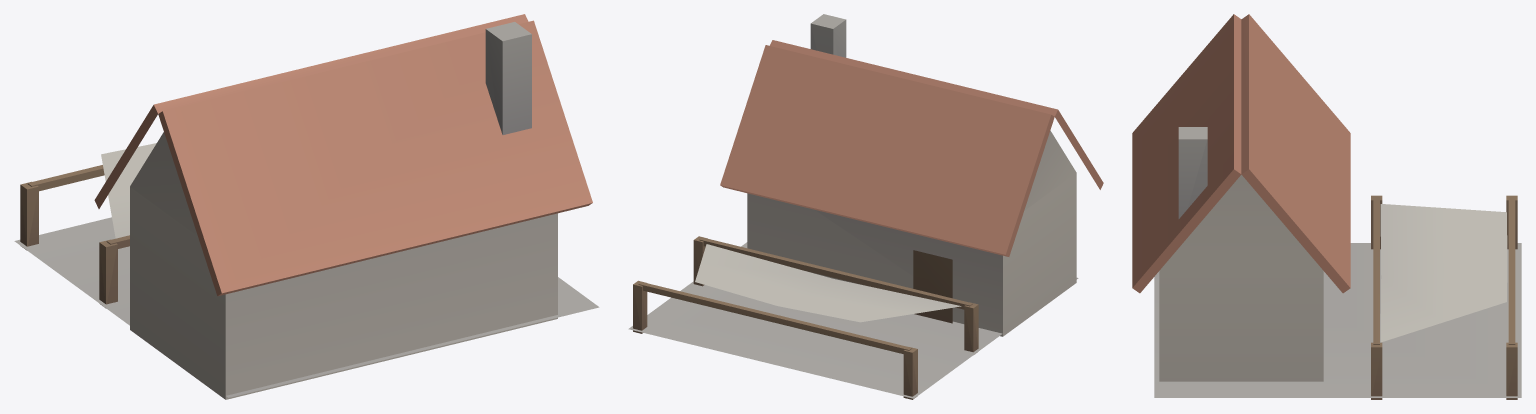
Rendered from sailmaker.lite.glb.
3 renders of one model, left to right at view 1: azimuth 30°, elevation 25°; view 2: azimuth 150°, elevation 25°; view 3: azimuth 270°, elevation 25°, orthographic. The views are drawn at different scales.
Parts seen in each view (by area): view 1: sailmaker; view 2: sailmaker; view 3: sailmaker.
Boxes of the visible parts, box(x1,y1,x2,y2) form: sailmaker: box(14, 14, 599, 399); sailmaker: box(628, 14, 1103, 399); sailmaker: box(1132, 14, 1521, 399).
Size of the model in its own units: 2 by 1.37 by 2.01.
